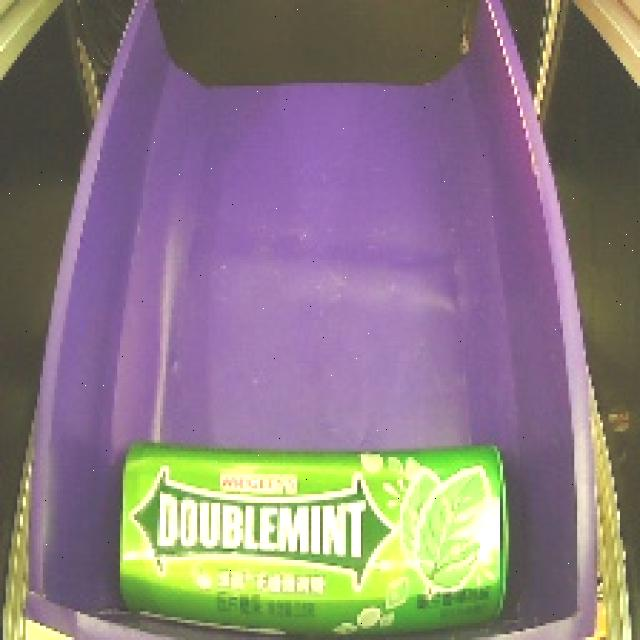metal: (95, 418, 520, 640)
